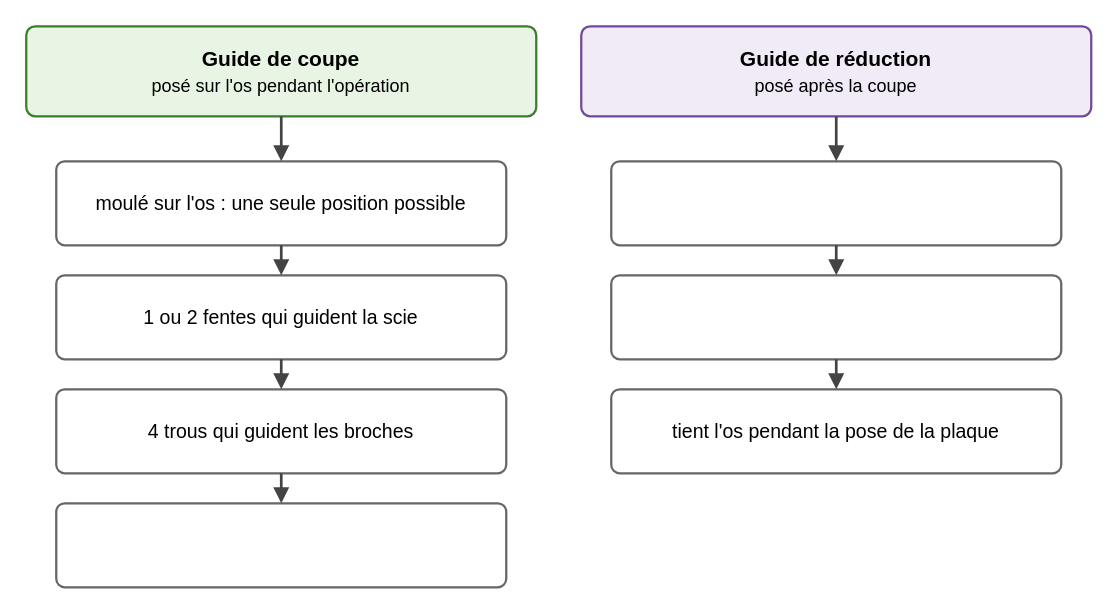
Some shapes in this 1119 by 615 pixel diagram are drawn without their labels. Each missing label, with the centre of its shape:
2 moitiés reliées par 2 petits ponts à couper: [280,544]
n'entre que si l'os est bien corrigé: [835,316]
s'enfile sur les 4 broches: [835,202]
